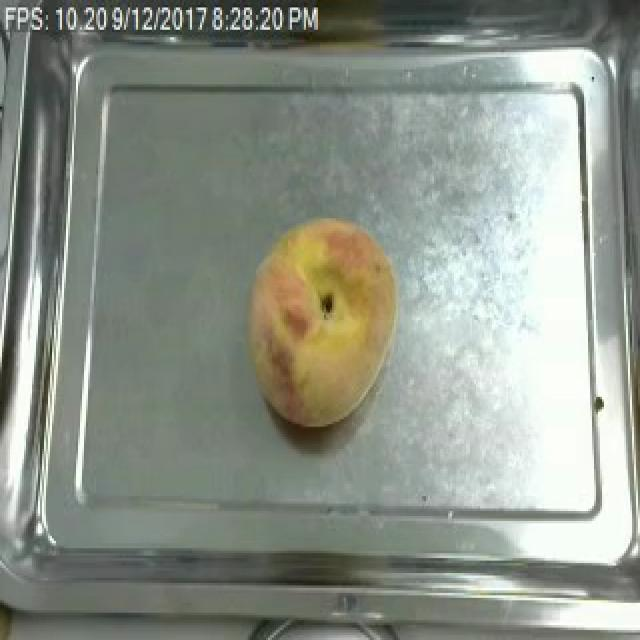Fruit: (238, 211, 408, 434)
